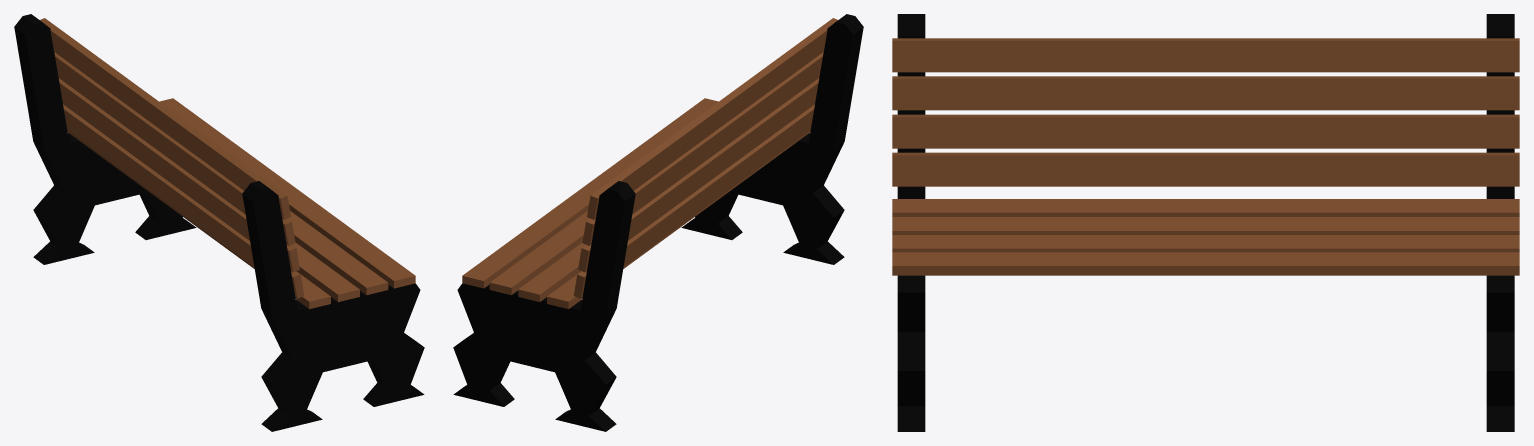
The model's file is BENCH_V1.fbx.
The picture shows the model from 3 angles, left to right: view 1: azimuth 30°, elevation 25°; view 2: azimuth 150°, elevation 25°; view 3: azimuth 270°, elevation 25°; orthographic projection. The views are drawn at different scales.
Visible parts, largest first — view 1: Cube.005; view 2: Cube.005; view 3: Cube.005.
Boxes of the visible parts, box(x1,y1,x2,y2) form: Cube.005: box(14, 14, 424, 431); Cube.005: box(453, 14, 863, 431); Cube.005: box(892, 14, 1519, 431).
Bounding box in the file's own units: 225 × 305 × 550.
